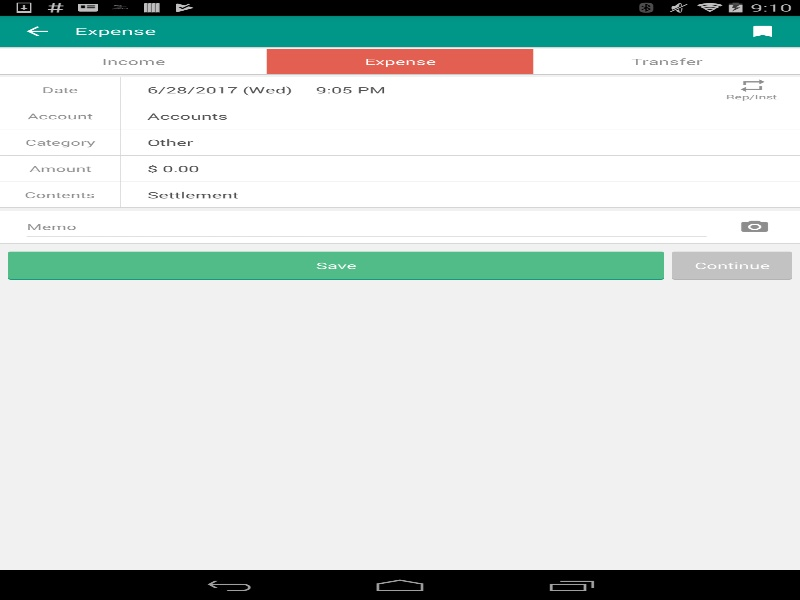Button: (8, 251, 664, 279), (672, 251, 792, 279), (725, 15, 800, 46), (0, 15, 74, 46), (717, 211, 792, 241), (726, 78, 780, 101)
Input: (147, 181, 780, 208), (26, 217, 693, 236)
